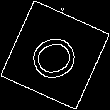O_E: (24, 26, 86, 84)
